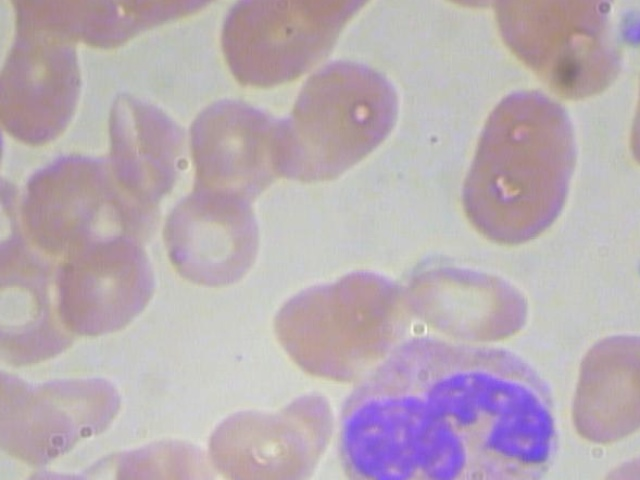RBC: (453, 137, 588, 246), (281, 56, 417, 164), (461, 75, 597, 183), (263, 277, 381, 385), (405, 257, 539, 348), (159, 187, 266, 299), (51, 232, 157, 344), (173, 92, 286, 189), (0, 36, 92, 148), (562, 330, 640, 451), (203, 400, 317, 480), (0, 361, 79, 471)
WBC: (328, 336, 563, 480)
